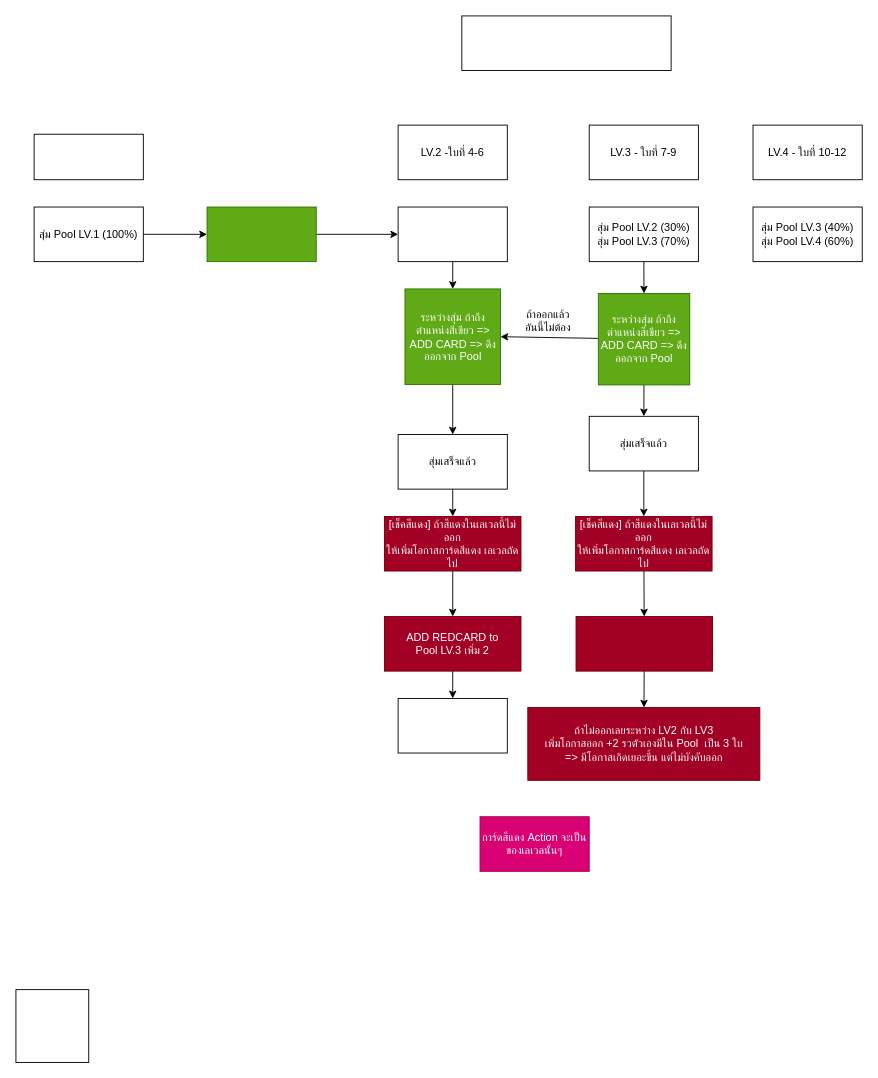
Image size: 878x1078. Some labels were removed from this diagram. The shapes that lost their labels are listed below. From the top down, each one's box as (x1, y1, x2, y2) in pixels, then its label:
(461, 15, 671, 71): GOD WarShip
(33, 133, 143, 180): LV.1 - ใบที่ 1-3
(206, 206, 316, 262): จองตำแหน่ง สุ่ม 4-9 การ์ดสีเขียว [บังคับออก]
(397, 206, 507, 262): สุ่ม Pool LV.1 (20%) สุ่ม Pool LV.2 (80%)
(575, 616, 713, 671): ADD REDCARD to Pool LV.4
(397, 698, 507, 753): ถ้าออกก็จะไม่แอดเพิ่ม pool อื่นเพิ่ม
(15, 989, 89, 1062): ซัพเฟอร์
